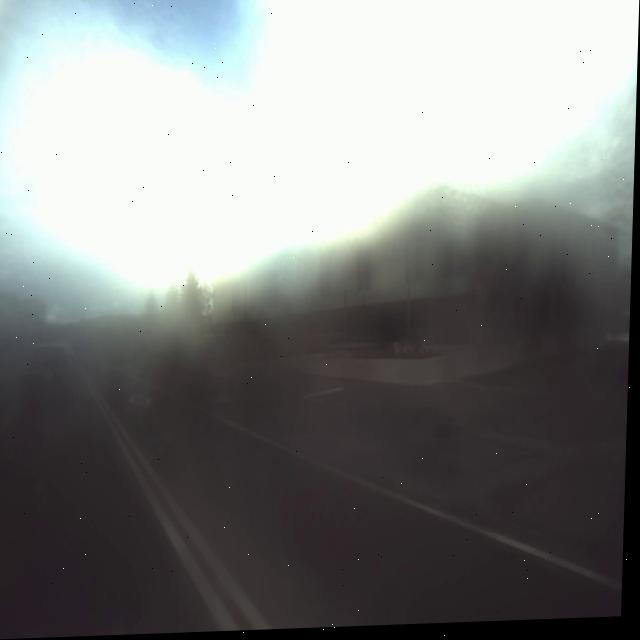car: (21, 326, 80, 416)
